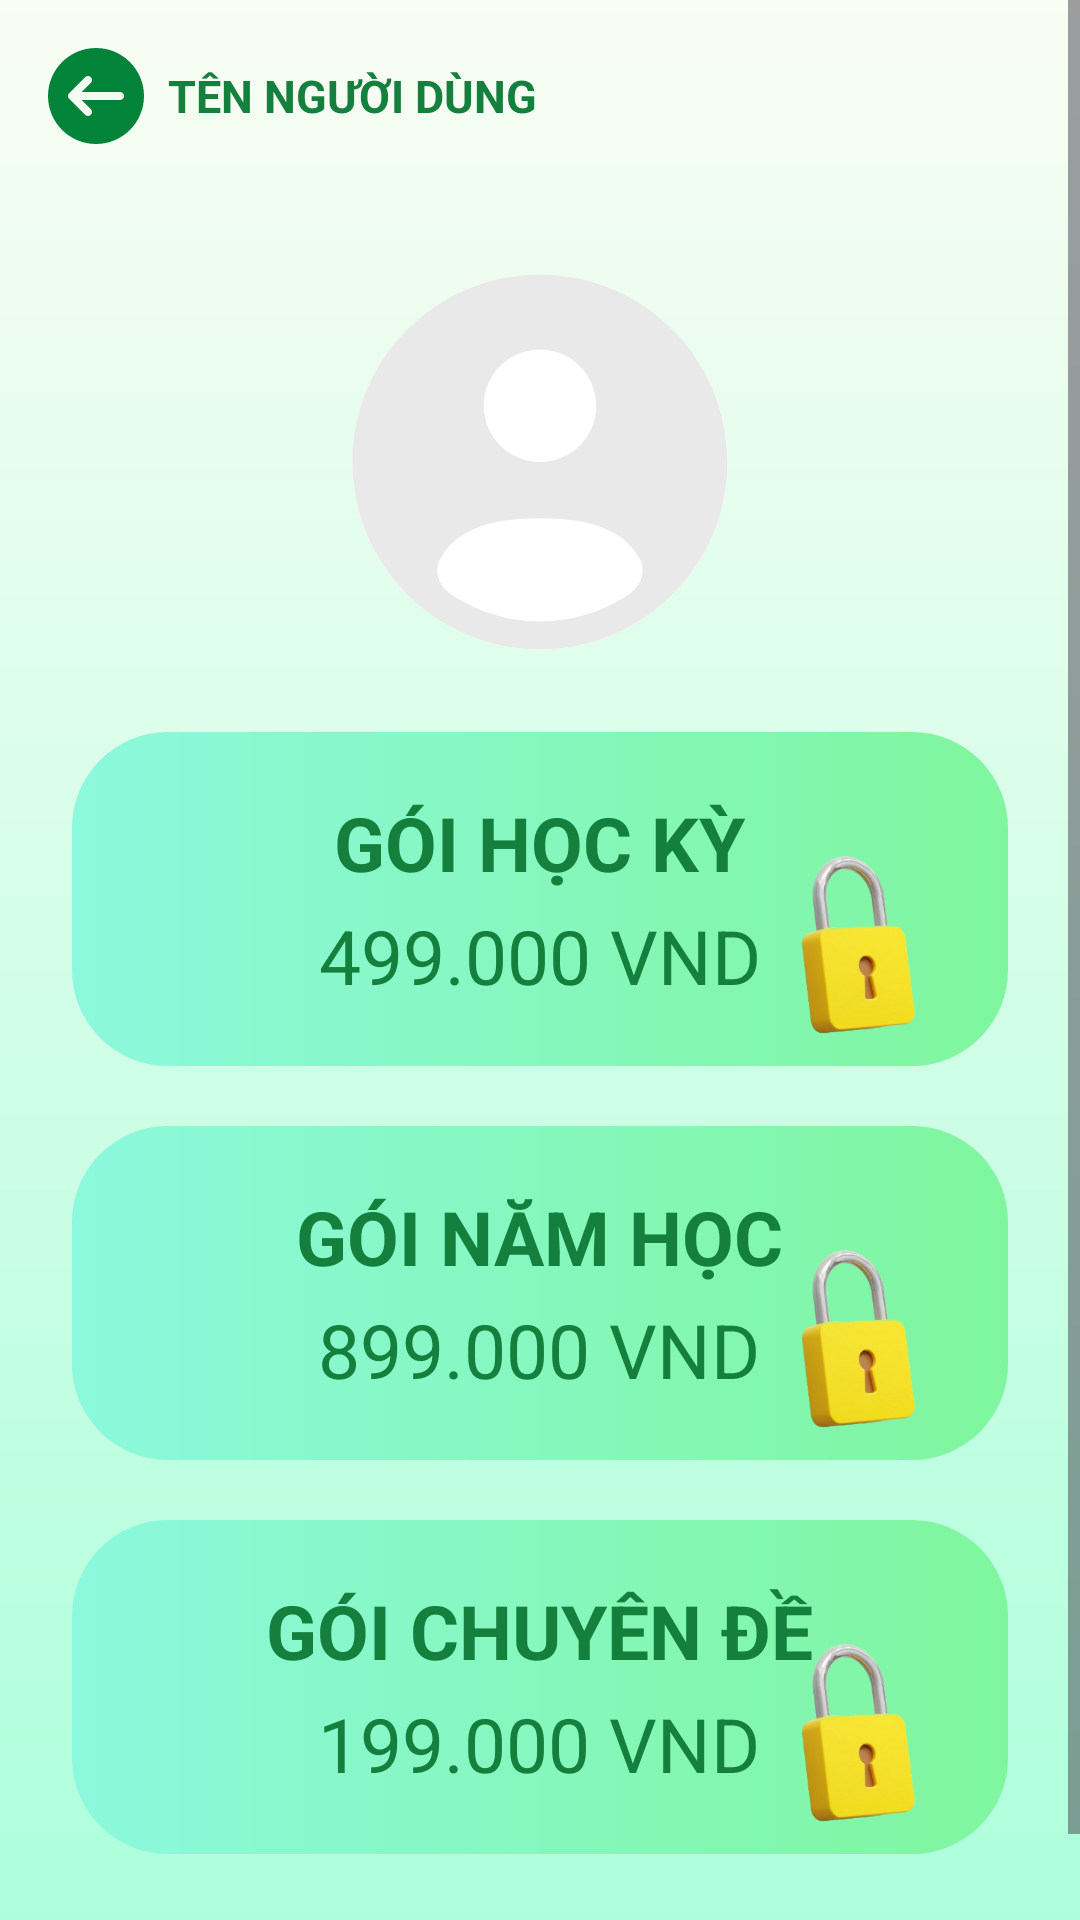

Where to tap for icons on this 1080×1920 app screen, as point (x, y):
back: point (96, 96)
lock: point (858, 944), point (858, 1338), point (858, 1732)
